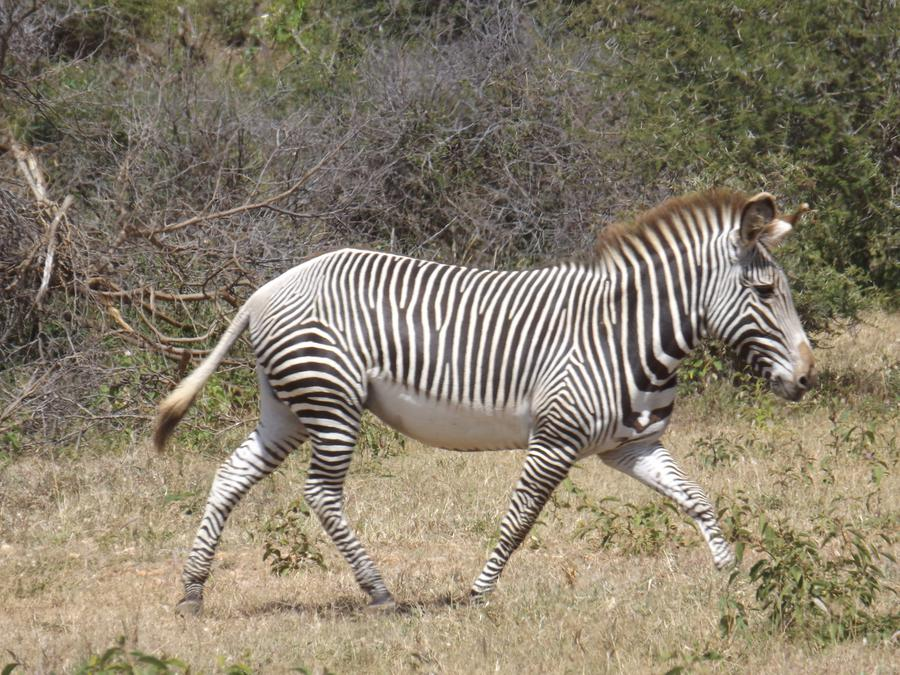zebra_grevys: (239, 232, 639, 438)
